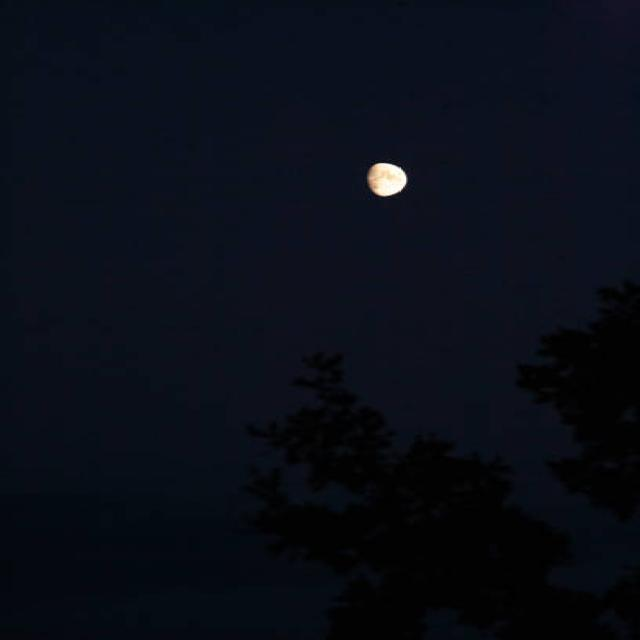moon: (330, 162, 408, 202)
